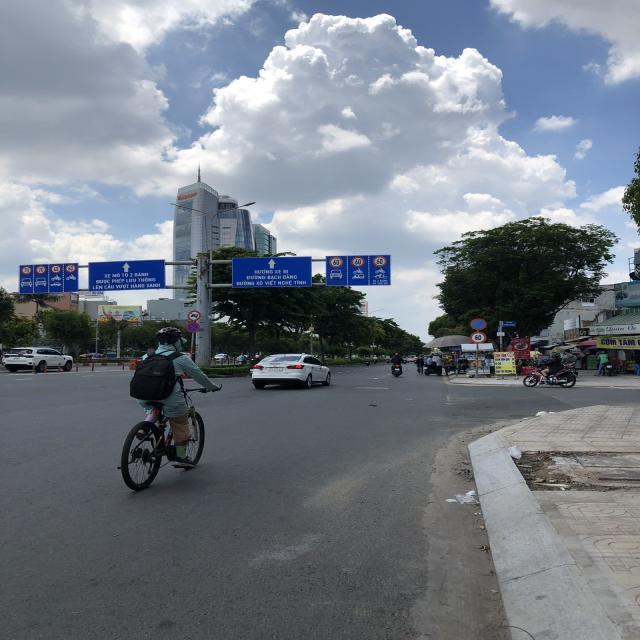Bien bao cam dung xe va do xe: (185, 322, 202, 334)
Bien bao cam xe oto tai: (186, 310, 202, 322)
Bien bao toc do toi da cho phep: (327, 255, 345, 268), (469, 331, 487, 344), (348, 256, 367, 268), (371, 254, 388, 266), (20, 264, 33, 276), (34, 264, 46, 275), (49, 264, 62, 274), (64, 264, 77, 274)
